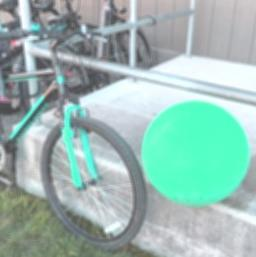algae: (143, 98, 251, 207)
